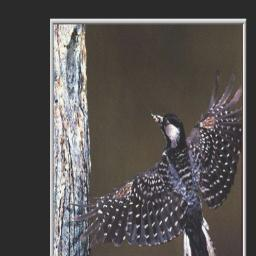Woodpecker: (70, 75, 243, 256)
